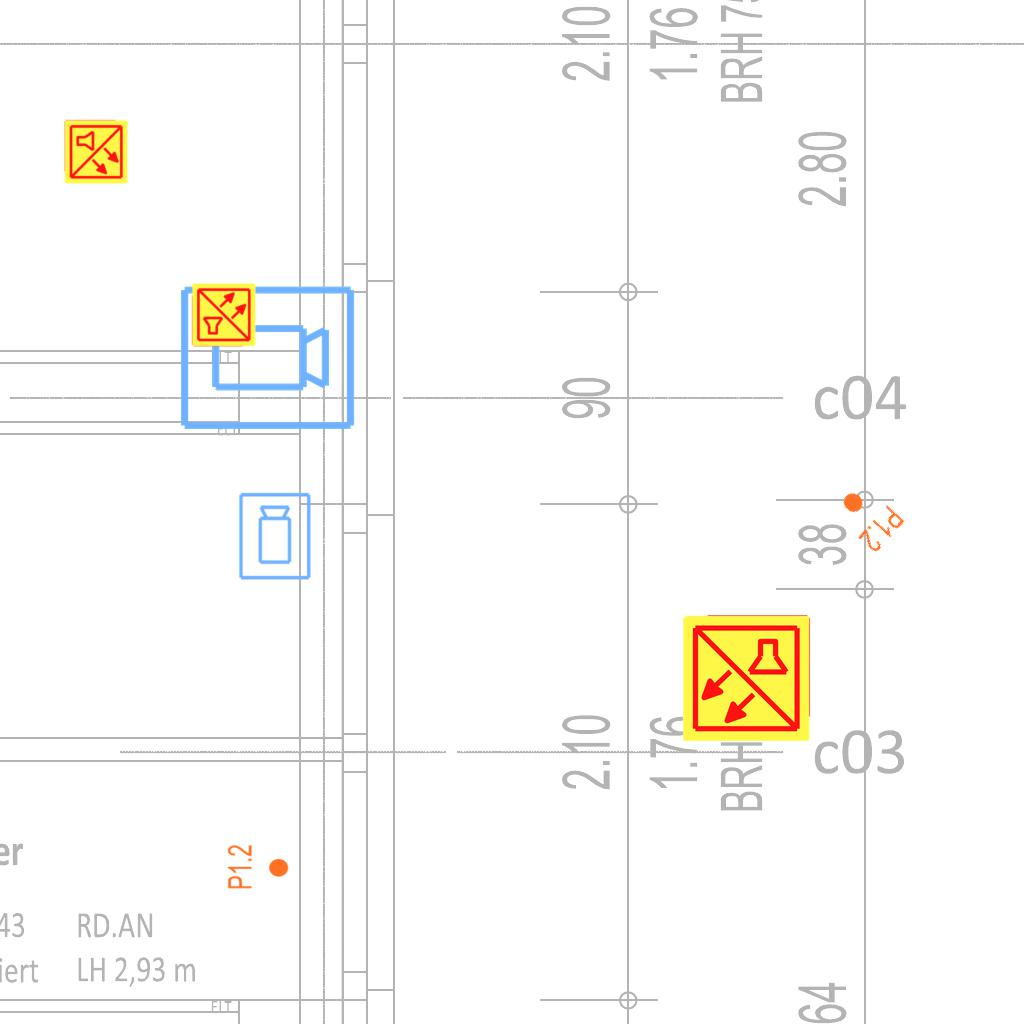Downlight_LED_Einbauleuchten_Flur: (828, 478, 908, 556), (226, 844, 290, 890)
KFO_Kamera_mit_Festobjektiv: (176, 282, 358, 436), (237, 491, 314, 582)
OKW_Multisensormelder_(Kombination_optischer_Rauch-Kahlenmonoxid_Waerme-Melder): (680, 612, 812, 744), (63, 119, 129, 185), (191, 282, 257, 348)
